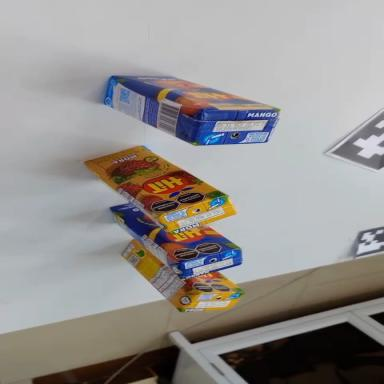HIT-MANGO: (97, 59, 282, 166), (100, 174, 248, 301)
HIT-MORA: (74, 125, 242, 258), (111, 238, 247, 330)
cara_F: (79, 123, 227, 241), (108, 174, 241, 285), (110, 59, 279, 131), (185, 270, 243, 294)
